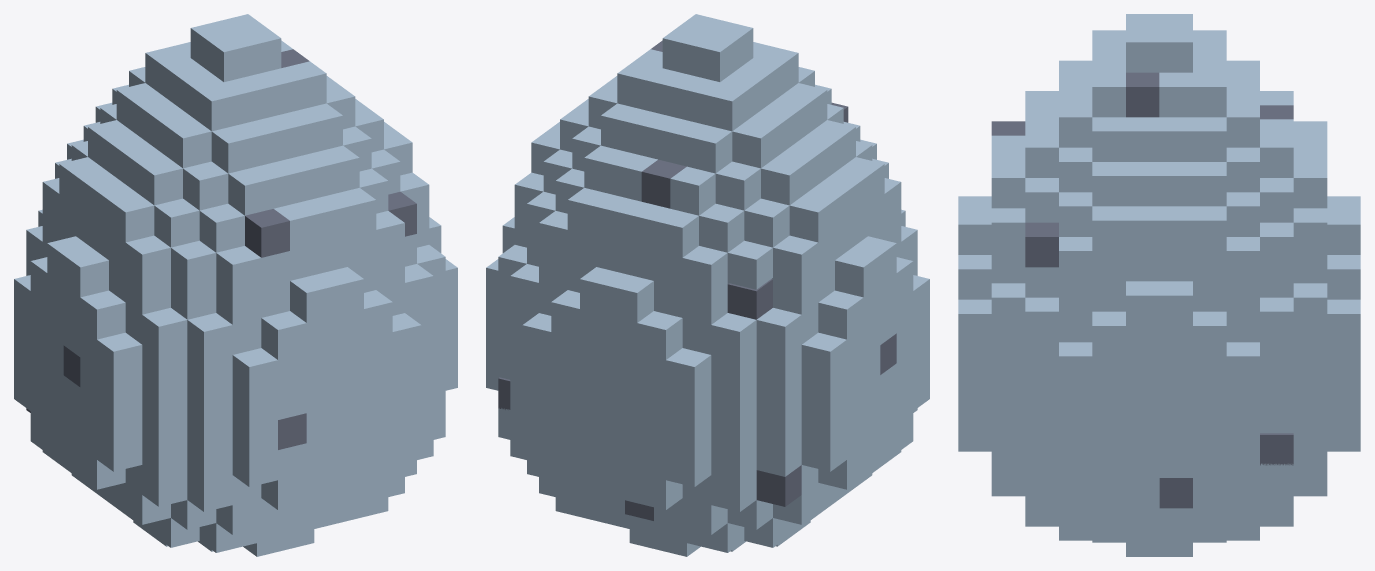
The model's file is Reed_Egg.glb.
3 renders of one model, left to right at view 1: azimuth 30°, elevation 25°; view 2: azimuth 150°, elevation 25°; view 3: azimuth 270°, elevation 25°, orthographic.
Visible parts, largest first — view 1: Cube_copy_copy_copy_copy_copy_copy_copy_copy_copy_copy_copy_ (×71), Cube_copy_1, Cube_copy_copy_copy_6, Cube_copy_copy_copy, Cube_copy_copy_copy_copy_copy_copy_copy_copy_copy, Cube_copy_copy_copy_9, Cube_copy_copy_copy_copy_copy_5, Cube_copy_4, Cube_copy_copy_copy_2, Cube_copy_copy_copy_copy_copy_copy_copy_copy_1, Cube_copy_copy_copy_copy_copy_8, Cube_copy_copy_copy_copy_copy_copy_6 (+59 smaller); view 2: Cube_copy_copy_copy_copy_copy_copy_copy_copy_copy_copy_copy_ (×71), Cube, Cube_copy_copy_copy_copy_copy_15, Cube_copy_copy_1, Cube_copy_copy_copy_copy_copy_17, Cube_copy_copy_copy_copy_copy_copy_copy_25, Cube_copy_copy_copy_20, Cube_copy_copy_4, Cube_copy_copy_copy_copy_copy_copy_copy_21, Cube_copy_copy_copy_copy_copy_copy_24, Cube_copy_copy_copy_copy_copy_copy_21, Cube_copy_copy_copy_copy_copy_copy_copy_copy_22 (+59 smaller); view 3: Cube_copy_copy_copy_copy_copy_copy_copy_copy_copy_copy_copy_ (×99), Cube_copy_copy_copy_copy_copy_copy_12, Cube_copy_copy_copy_copy_copy_copy_copy_copy_copy_copy_2, Cube_copy_copy_copy_copy_6, Cube_copy_5, Cube_copy_copy_12, Cube_copy_copy_copy_copy_copy_copy_19, Cube_copy_copy_copy_copy_18, Cube_copy_copy_8, Cube_copy_copy_copy_copy_4, Cube_copy_copy_copy_13, Cube_copy_copy_copy_copy_9 (+60 smaller).
Boxes of the visible parts, x1,y1,x2,y2 form: Cube_copy_copy_copy_copy_copy_copy_copy_copy_copy_copy_copy_ (×71): (26,21,445,552); Cube_copy_1: (80,290,125,339); Cube_copy_copy_copy_6: (290,274,335,322); Cube_copy_copy_copy: (63,248,108,297); Cube_copy_copy_copy_copy_copy_copy_copy_copy_copy: (125,235,170,284); Cube_copy_copy_copy_9: (232,348,277,396); Cube_copy_copy_copy_copy_copy_5: (142,308,187,356); Cube_copy_4: (261,311,306,359); Cube_copy_copy_copy_2: (97,332,142,381); Cube_copy_copy_copy_copy_copy_copy_copy_copy_1: (125,273,170,314); Cube_copy_copy_copy_copy_copy_8: (232,415,277,456); Cube_copy_copy_copy_copy_copy_copy_6: (142,405,187,446); Cube_copy_copy_copy_copy_copy_copy_copy_copy_copy_copy_copy_ (×71): (510,21,884,552); Cube: (818,290,863,339); Cube_copy_copy_copy_copy_copy_15: (608,274,653,322); Cube_copy_copy_1: (835,248,880,297); Cube_copy_copy_copy_copy_copy_17: (666,348,711,396); Cube_copy_copy_copy_copy_copy_copy_copy_25: (711,313,756,361); Cube_copy_copy_copy_20: (637,311,682,359); Cube_copy_copy_4: (801,332,846,381); Cube_copy_copy_copy_copy_copy_copy_copy_21: (666,415,711,456); Cube_copy_copy_copy_copy_copy_copy_24: (711,350,756,391); Cube_copy_copy_copy_copy_copy_copy_21: (666,385,711,426); Cube_copy_copy_copy_copy_copy_copy_copy_copy_22: (711,410,756,451); Cube_copy_copy_copy_copy_copy_copy_copy_copy_copy_copy_copy_ (×99): (991,14,1327,556); Cube_copy_copy_copy_copy_copy_copy_12: (991,283,1025,327); Cube_copy_copy_copy_copy_copy_copy_copy_copy_copy_copy_2: (991,208,1025,252); Cube_copy_copy_copy_copy_6: (958,299,991,344); Cube_copy_5: (1092,311,1125,356); Cube_copy_copy_12: (1193,311,1226,356); Cube_copy_copy_copy_copy_copy_copy_19: (1260,297,1293,342); Cube_copy_copy_copy_copy_18: (1327,299,1360,344); Cube_copy_copy_8: (958,255,991,299); Cube_copy_copy_copy_copy_4: (958,210,991,254); Cube_copy_copy_copy_13: (1126,281,1159,325); Cube_copy_copy_copy_copy_9: (1159,281,1192,325).
Bounding box in the file's own units: 1.2 × 1.6 × 1.2.
